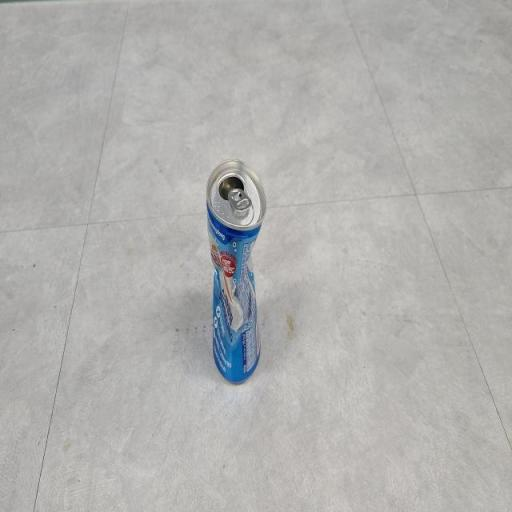metal: (194, 146, 278, 392)
